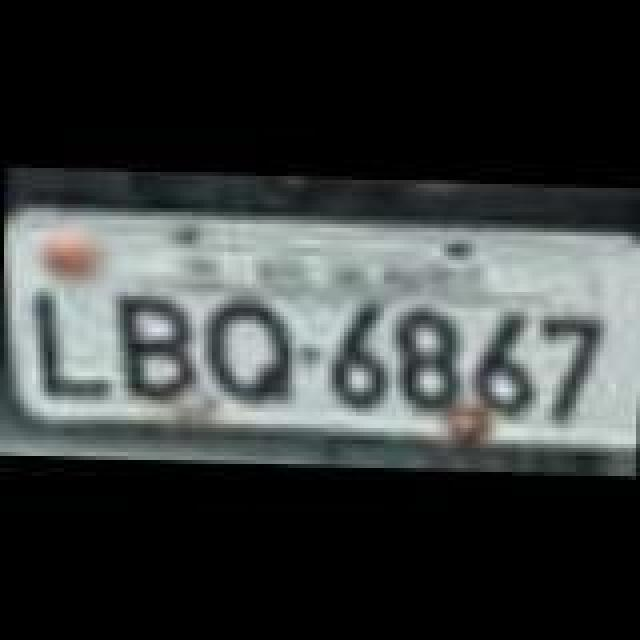6: (466, 302, 542, 418), (324, 292, 396, 412)
7: (532, 308, 604, 428)
8: (386, 306, 462, 414)
B: (106, 286, 198, 402)
L: (24, 288, 120, 400)
Q: (198, 296, 298, 408)
